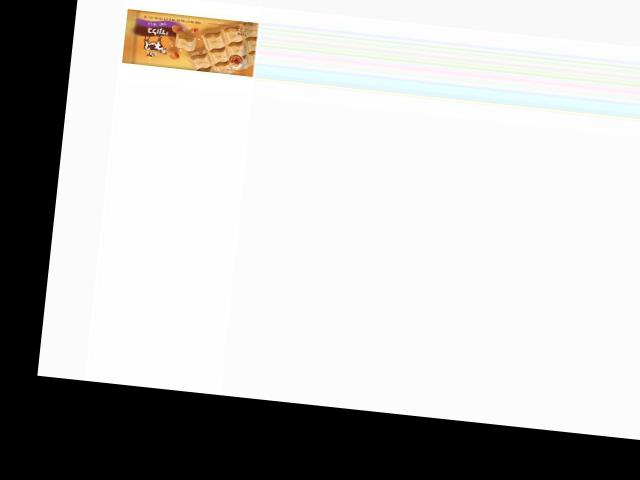chocolate: (117, 4, 259, 76)
